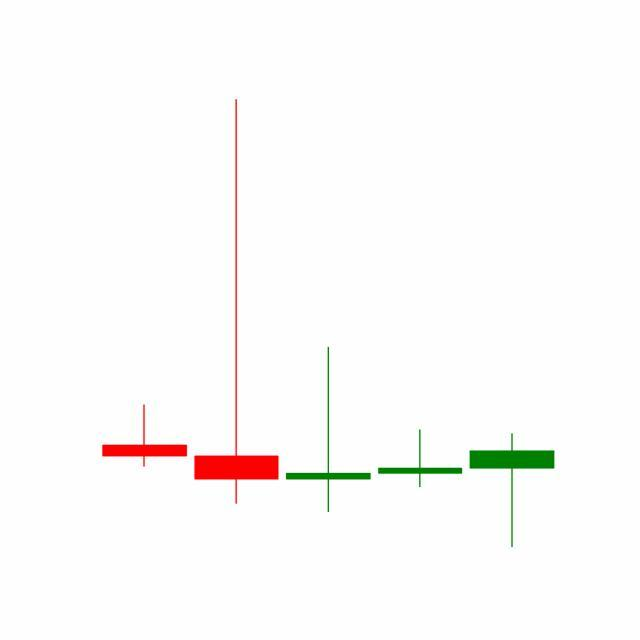Spinning Top: (374, 429, 468, 489)
